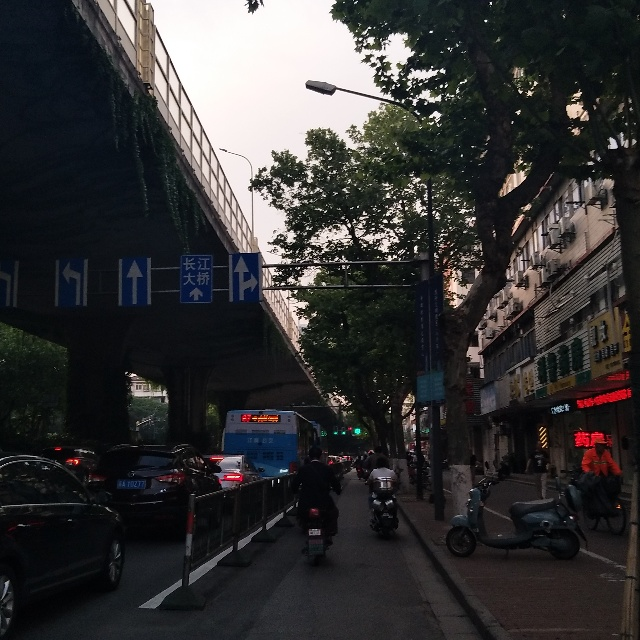left: (58, 259, 87, 311)
straight: (121, 258, 151, 305)
